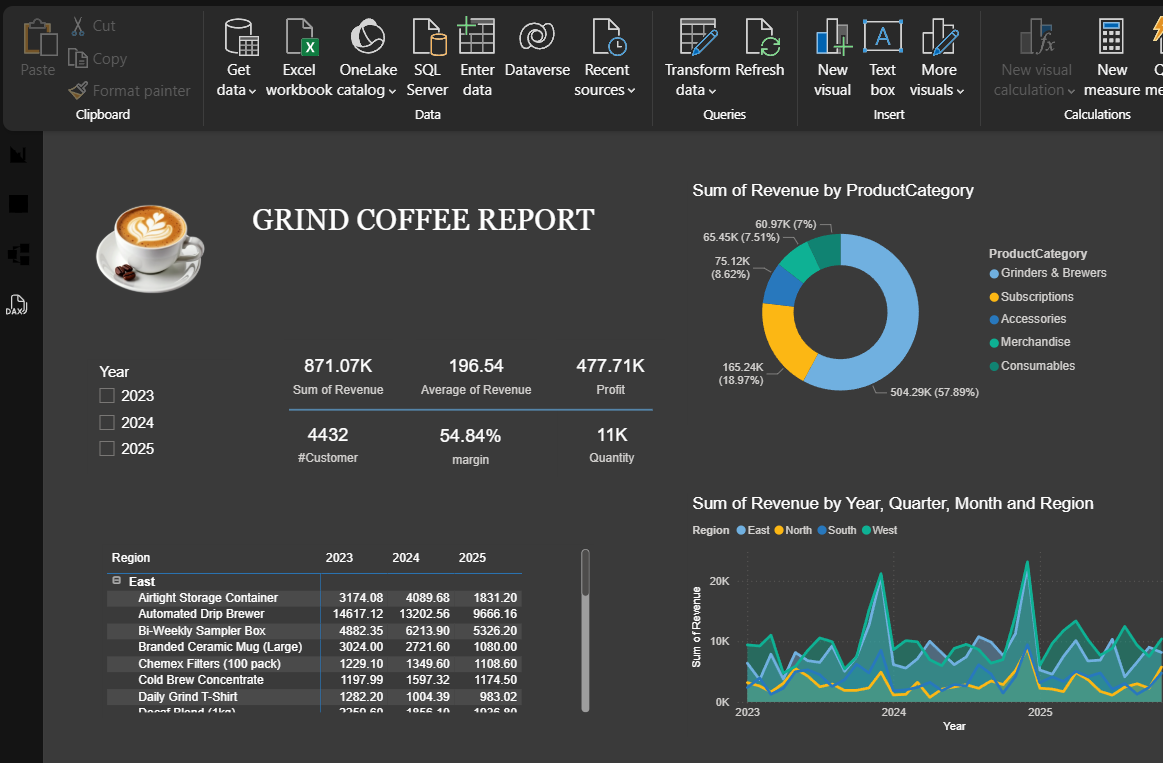

This screenshot's page, from the dashboard's own definition file:
{"tool":"powerbi","page":{"name":"Page 1","canvas":[1280,720],"ordinal":0},"visuals":[{"type":"donutChart","fields":{"Category":["Query1.ProductCategory"],"Y":["Sum(Query1.Revenue)"]},"box":[706.7,54.9,474.8,267.6],"z":0},{"type":"areaChart","fields":{"Category":["Query1.OrderDate.Variation.Date Hierarchy.Year","Query1.OrderDate.Variation.Date Hierarchy.Quarter","Query1.OrderDate.Variation.Date Hierarchy.Month","Query1.OrderDate.Variation.Date Hierarchy.Day"],"Y":["Sum(Query1.Revenue)"],"Series":["Query1.Region"]},"box":[706.7,397.9,539.3,267.6],"z":1000},{"type":"pivotTable","fields":{"Columns":["Query1.OrderDate.Variation.Date Hierarchy.Year"],"Rows":["Query1.Region","Query1.ProductName"],"Values":["Sum(Query1.Revenue)"]},"box":[64.5,454.2,539.3,189.4],"z":2000},{"type":"card","fields":{"Values":["Sum(Query1.profit)"]},"box":[562.3,229.7,119.4,75.5],"z":3000},{"type":"slicer","fields":{"Values":["Query1.OrderDate.Variation.Date Hierarchy.Year"]},"box":[47.5,250.8,159.2,124.9],"z":4000},{"type":"card","fields":{"Values":["Sum(Query1.Revenue)"]},"box":[263.2,229.7,119.4,75.5],"z":5000},{"type":"card","fields":{"Values":["Avg(Query1.Revenue)"]},"box":[408.6,229.7,131.7,75.5],"z":6000},{"type":"card","fields":{"Values":["Query1.margin"]},"box":[408.6,306.6,119.4,75.5],"z":7000},{"type":"card","fields":{"Values":["CountNonNull(Query1.CustomerID)"]},"box":[252.2,305.2,119.4,75.5],"z":8000},{"type":"card","fields":{"Values":["Sum(Query1.Quantity)"]},"box":[563.7,305.2,119.4,75.5],"z":9000},{"type":"shape","box":[268.7,231.1,399.3,150.9],"z":10000},{"type":"image","box":[37,54.9,159.2,149.6],"z":11000},{"type":"textbox","box":[223.7,74.1,459.7,75.5],"z":12000}]}

Visuals, with their boxes on the page's 1280x720 design canvas (x1, y1, x2, y2). These are canvas units, not pixel positions in the 1163x763 screenshot, which may show the page scaled, cropped or inside an application window:
donutChart - Query1.ProductCategory x Sum(Query1.Revenue): [left=707, top=55, right=1182, bottom=322]
areaChart - Query1.OrderDate.Variation.Date Hierarchy.Year x Query1.OrderDate.Variation.Date Hierarchy.Quarter: [left=707, top=398, right=1246, bottom=666]
pivotTable - Query1.OrderDate.Variation.Date Hierarchy.Year x Query1.Region: [left=64, top=454, right=604, bottom=644]
card - Sum(Query1.profit): [left=562, top=230, right=682, bottom=305]
slicer - Query1.OrderDate.Variation.Date Hierarchy.Year: [left=48, top=251, right=207, bottom=376]
card - Sum(Query1.Revenue): [left=263, top=230, right=383, bottom=305]
card - Avg(Query1.Revenue): [left=409, top=230, right=540, bottom=305]
card - Query1.margin: [left=409, top=307, right=528, bottom=382]
card - CountNonNull(Query1.CustomerID): [left=252, top=305, right=372, bottom=381]
card - Sum(Query1.Quantity): [left=564, top=305, right=683, bottom=381]
shape: [left=269, top=231, right=668, bottom=382]
image: [left=37, top=55, right=196, bottom=204]
textbox: [left=224, top=74, right=683, bottom=150]
